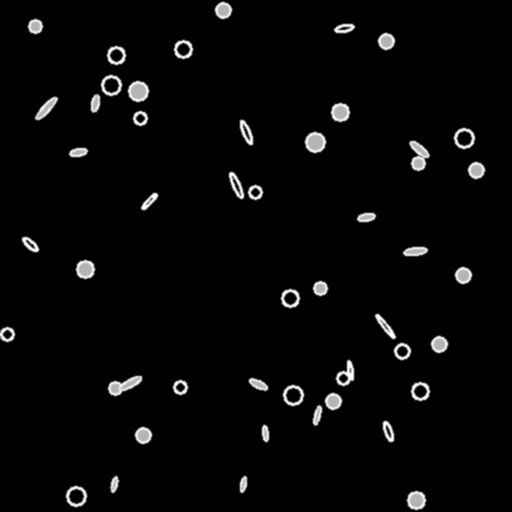pseudomonas: (34, 96, 58, 120), (374, 314, 396, 338), (408, 139, 430, 159), (228, 172, 244, 198), (118, 375, 142, 391), (238, 120, 254, 144), (21, 235, 39, 253), (140, 192, 158, 210), (381, 420, 395, 442), (248, 377, 268, 391), (403, 246, 427, 256), (312, 405, 322, 425), (334, 23, 354, 33), (90, 94, 100, 112), (346, 360, 354, 380), (70, 147, 86, 157), (357, 213, 375, 221), (110, 476, 118, 492), (239, 476, 247, 492), (262, 425, 268, 441)
synechocystis: (455, 129, 473, 147), (67, 487, 85, 505), (306, 133, 324, 151), (284, 386, 302, 404), (102, 76, 120, 94), (129, 82, 147, 100), (332, 104, 348, 120), (108, 47, 124, 63), (408, 492, 424, 508), (77, 261, 93, 277), (175, 41, 191, 57), (282, 290, 298, 306), (412, 383, 428, 399), (456, 268, 470, 282), (379, 34, 393, 48), (326, 394, 340, 408), (136, 428, 150, 442), (395, 344, 409, 358), (216, 3, 230, 17), (469, 163, 483, 177), (432, 337, 446, 351), (249, 186, 261, 198), (337, 372, 349, 384), (29, 20, 41, 32), (1, 328, 13, 340), (134, 112, 146, 124), (174, 381, 186, 393), (109, 382, 121, 394), (412, 157, 424, 169), (314, 282, 326, 294)
